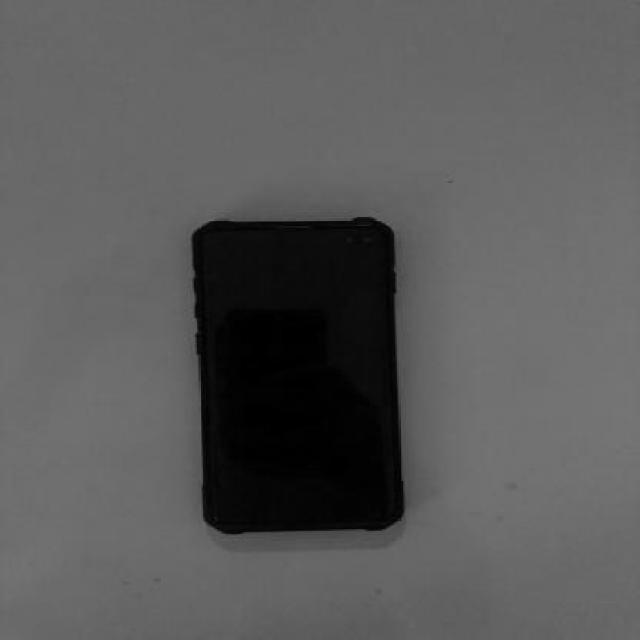fake: (190, 216, 410, 536)
